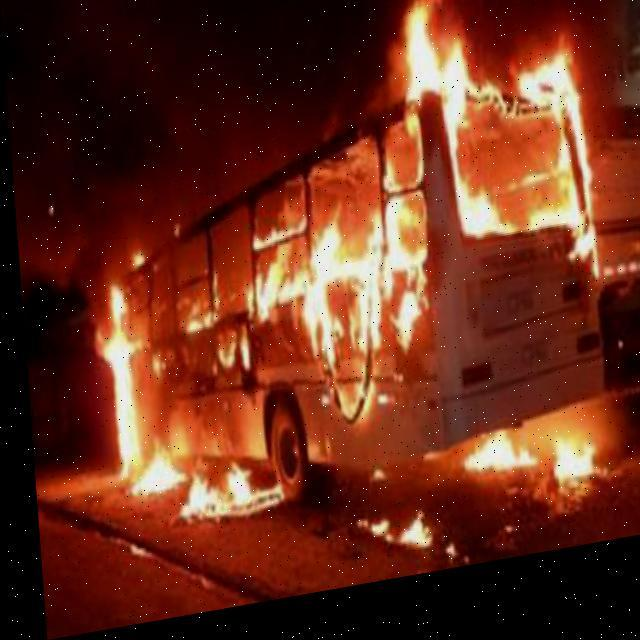Fire: (402, 0, 598, 263), (238, 190, 414, 394), (89, 268, 176, 504), (177, 465, 278, 535)
